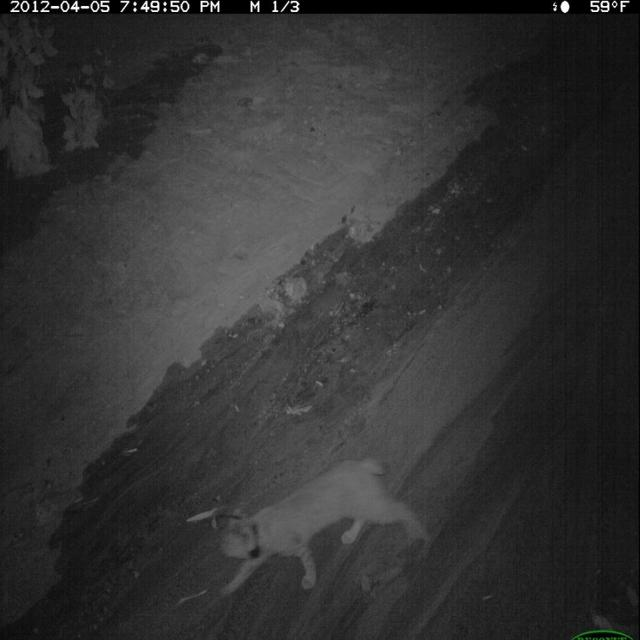bobcat: (213, 452, 438, 603)
